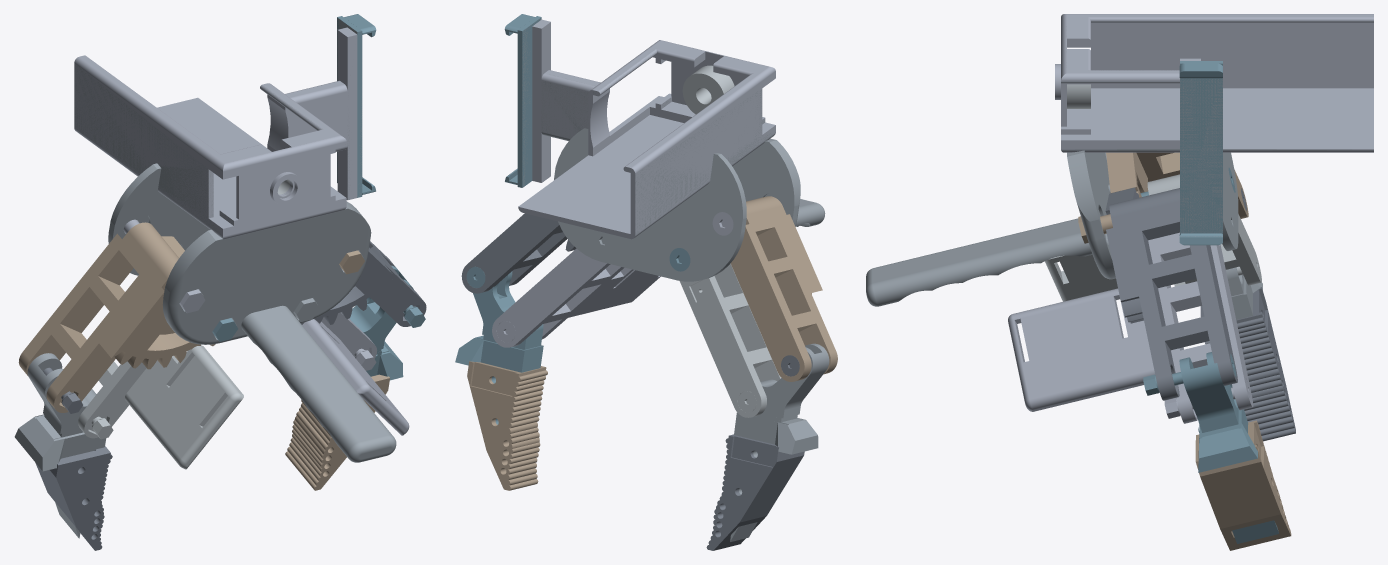
Rendered from flexiv-assembled-low-profile.glb.
The picture shows the model from 3 angles, left to right: view 1: azimuth 30°, elevation 25°; view 2: azimuth 150°, elevation 25°; view 3: azimuth 270°, elevation 25°; orthographic projection. The views are drawn at different scales.
Visible parts, largest first — view 1: moving-handle, handheld-housing, left-drive, left-inner-link, left-carrier, right-fingertip-pad, right-inner-link, right-drive, left-fingertip-pad, right-carrier, tracker-bracket, pivot-p01; view 2: handheld-housing, moving-handle, left-drive, left-inner-link, left-fingertip-pad, right-inner-link, right-fingertip-pad, left-carrier, right-drive, right-carrier, tracker-bracket, camera-support; view 3: handheld-housing, right-inner-link, moving-handle, right-drive, tracker-bracket, right-carrier, left-fingertip-pad, right-fingertip-pad, left-inner-link, left-drive, left-carrier.
Part boxes in pixels (<box>): moving-handle: <box>74,18,396,462</box>; handheld-housing: <box>74,27,357,239</box>; left-drive: <box>18,222,215,412</box>; left-inner-link: <box>78,345,243,469</box>; left-carrier: <box>14,353,106,538</box>; right-fingertip-pad: <box>35,446,112,550</box>; right-inner-link: <box>302,312,409,435</box>; right-drive: <box>301,241,426,326</box>; left-fingertip-pad: <box>285,374,389,490</box>; right-carrier: <box>349,265,413,380</box>; tracker-bracket: <box>337,14,376,197</box>; pivot-p01: <box>123,219,205,313</box>; handheld-housing: <box>518,19,775,239</box>; moving-handle: <box>512,19,825,281</box>; left-drive: <box>730,196,837,381</box>; left-inner-link: <box>679,263,781,417</box>; left-fingertip-pad: <box>467,361,547,490</box>; right-inner-link: <box>492,248,660,347</box>; right-fingertip-pad: <box>706,434,804,550</box>; left-carrier: <box>730,343,829,541</box>; right-drive: <box>461,213,576,293</box>; right-carrier: <box>455,271,543,424</box>; tracker-bracket: <box>504,14,541,187</box>; camera-support: <box>682,65,734,114</box>; handheld-housing: <box>1055,14,1373,152</box>; right-inner-link: <box>1008,232,1253,423</box>; moving-handle: <box>866,26,1373,306</box>; right-drive: <box>1105,187,1237,400</box>; tracker-bracket: <box>1179,61,1222,245</box>; right-carrier: <box>1179,352,1278,543</box>; left-fingertip-pad: <box>1195,420,1291,550</box>; right-fingertip-pad: <box>1200,287,1295,441</box>; left-inner-link: <box>1045,174,1261,301</box>; left-drive: <box>1106,152,1248,218</box>; left-carrier: <box>1226,267,1262,319</box>.
Size of the model in its own units: 0.1483 by 0.1854 by 0.1688.
